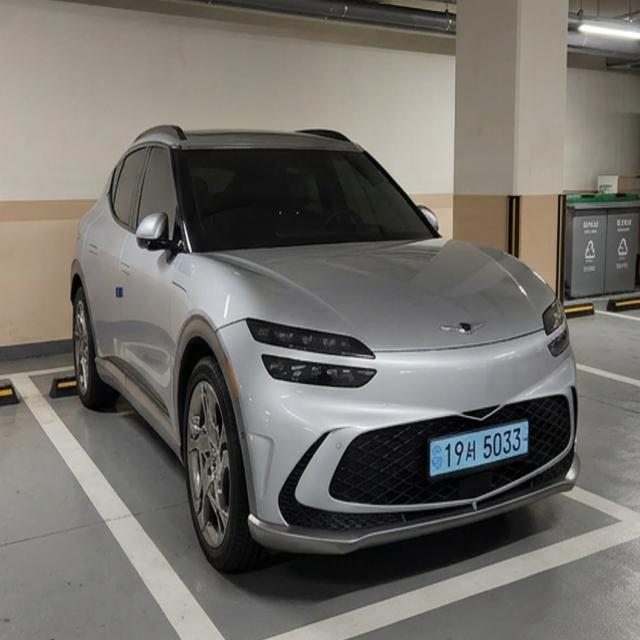car: (414, 403, 548, 488)
carev: (429, 440, 445, 475), (519, 421, 530, 455)
